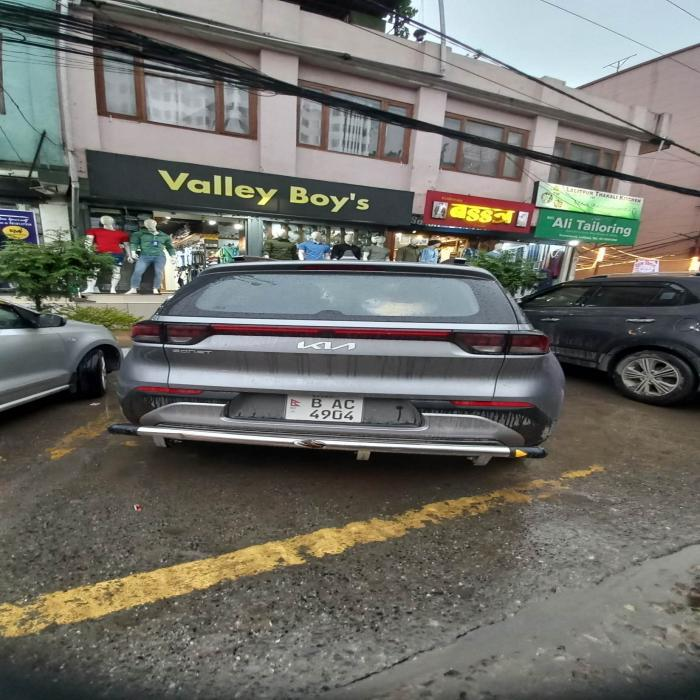number_plate: (285, 394, 360, 421)
